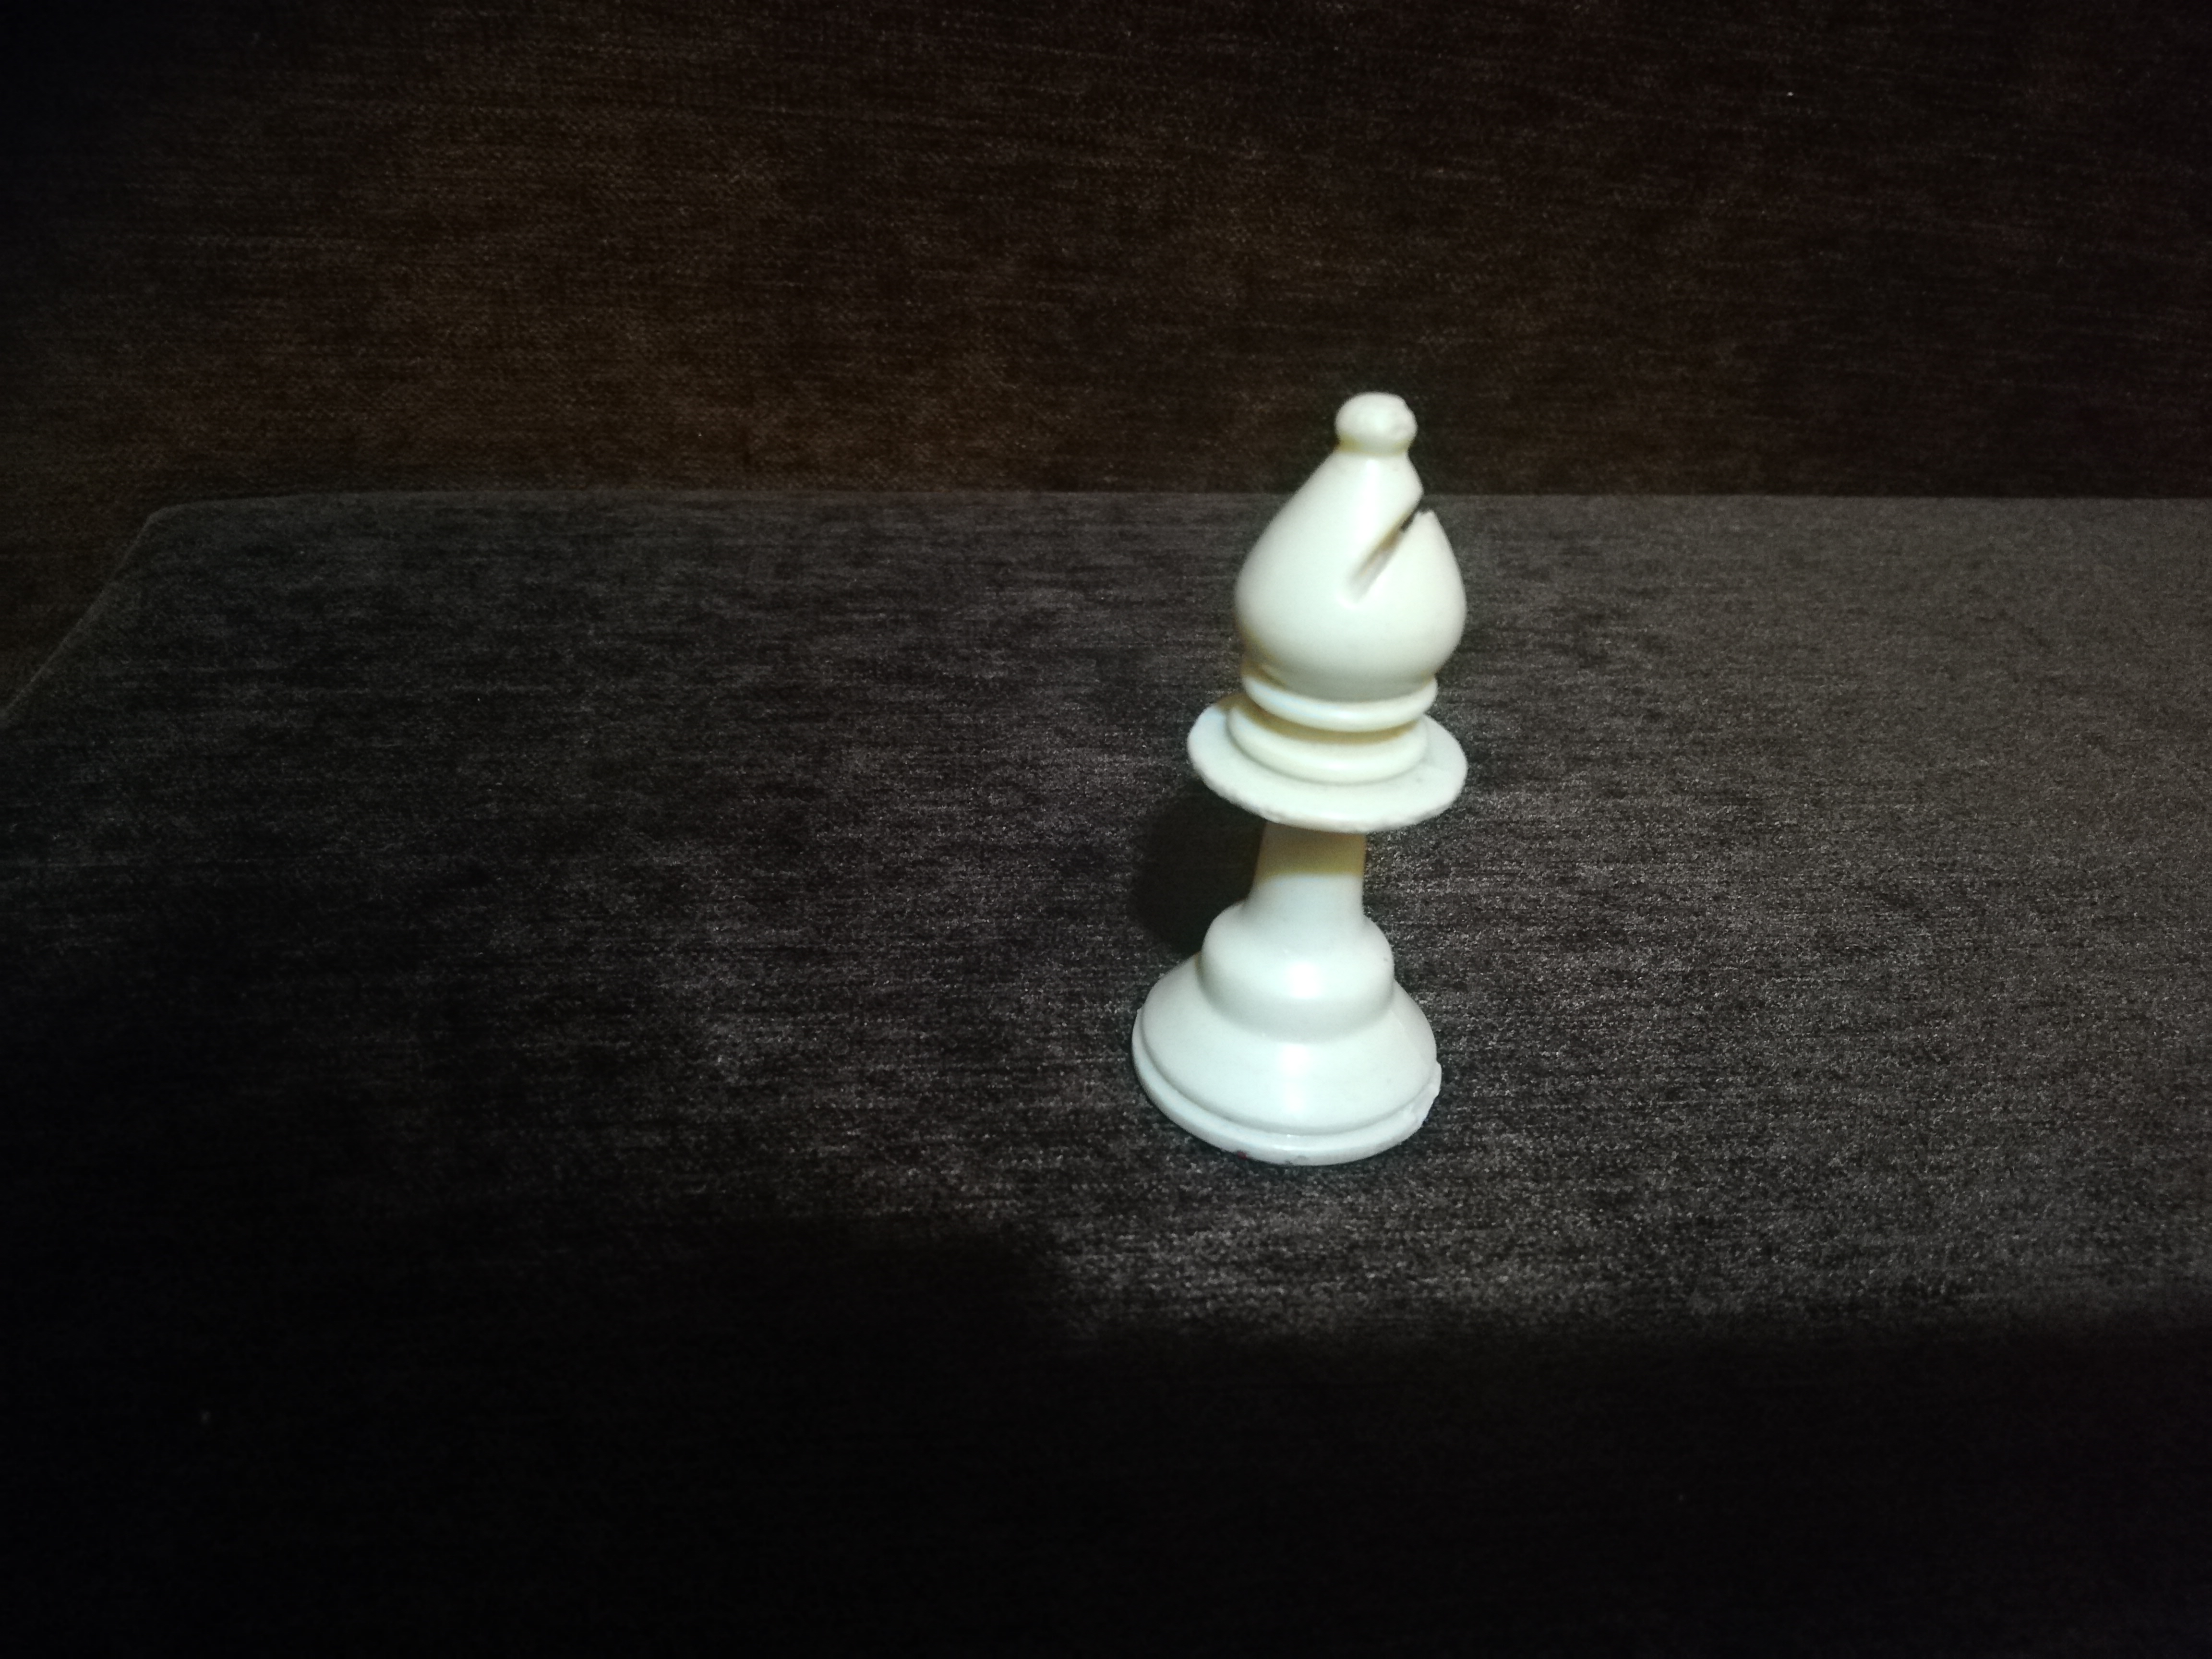Bishop: (1124, 374, 1478, 1167)
